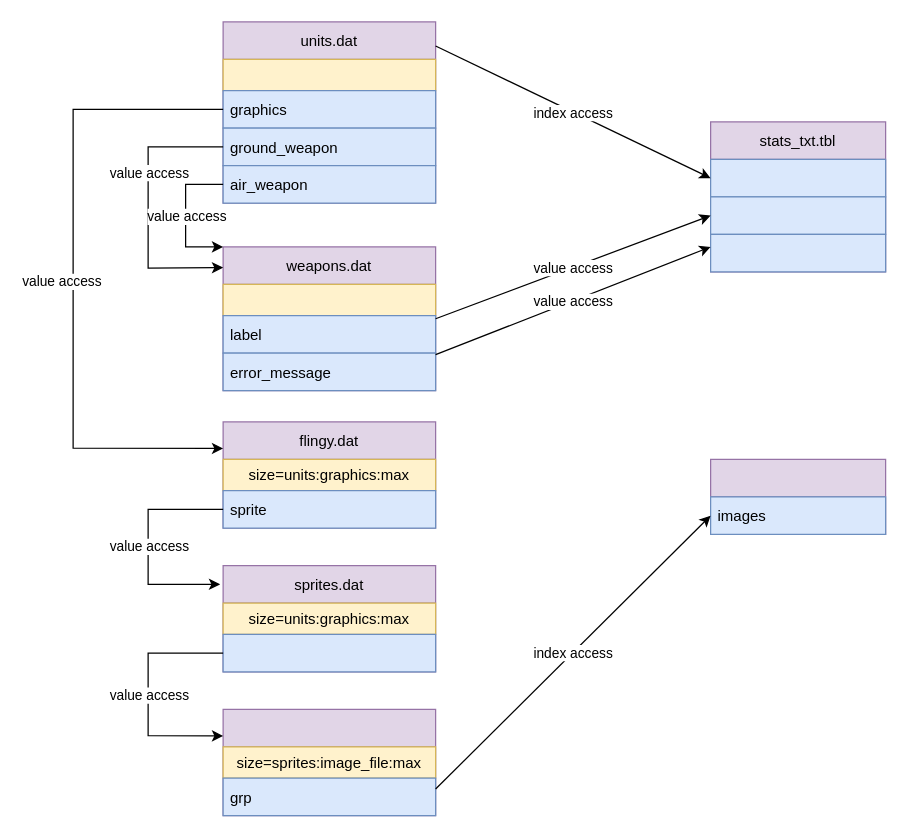
This 908x838 diagram has some shape labels left out. Each missing label, with the box of its shape:
error_messages: (709, 233, 886, 272)
image_file: (222, 633, 436, 672)
images.dat: (222, 708, 436, 816)
images.tbl: (709, 458, 886, 534)
size=228: (222, 58, 436, 91)
size=units:weapon:max: (222, 283, 436, 316)
units: (709, 158, 886, 197)
weapons: (709, 196, 886, 234)
